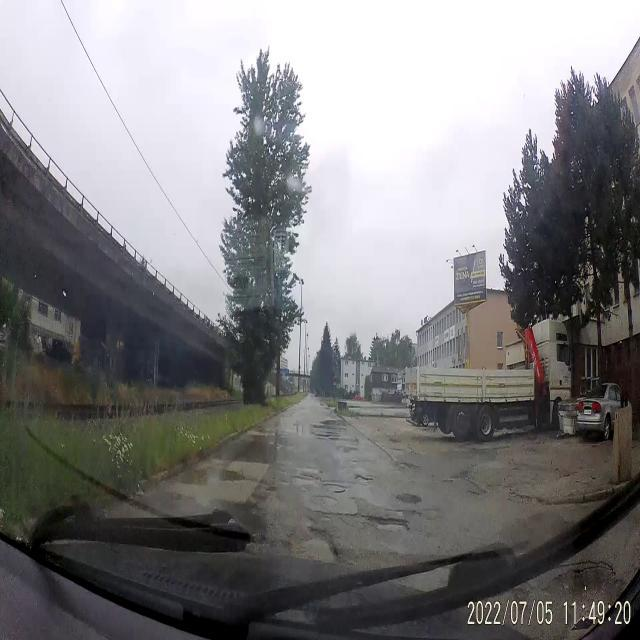Manhole: (308, 494, 341, 508), (394, 491, 422, 507), (320, 482, 350, 496)
Pothole: (544, 560, 624, 606), (288, 522, 342, 566), (368, 512, 412, 539), (507, 487, 542, 510), (292, 468, 322, 490), (352, 470, 377, 486), (316, 430, 342, 442), (398, 460, 419, 472), (338, 444, 358, 454), (464, 486, 480, 498), (262, 484, 278, 494), (387, 436, 401, 446), (442, 476, 454, 484)
